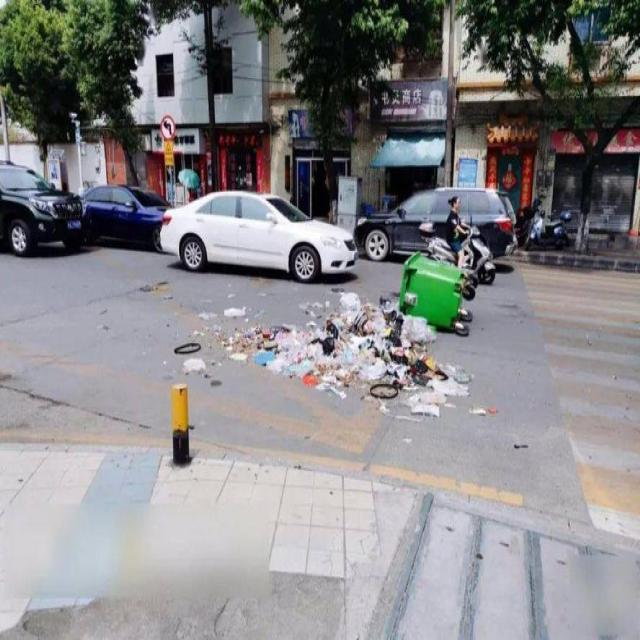garbage: (175, 288, 494, 416)
